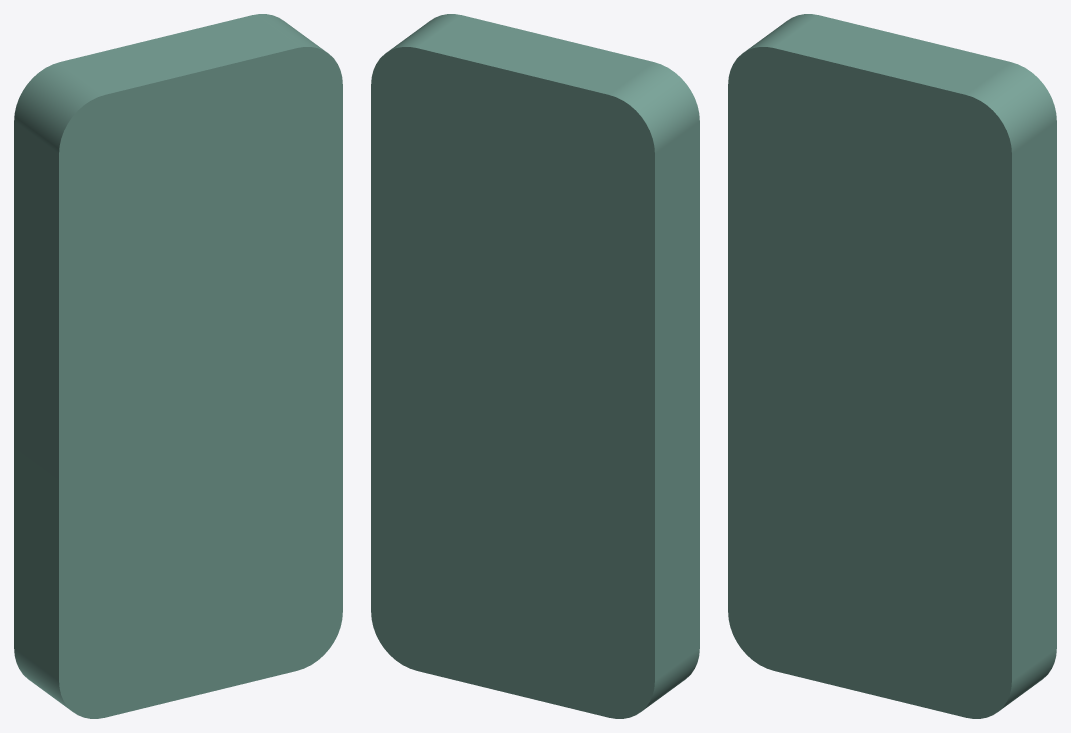
File: example.glb
3 renders of one model, left to right at view 1: azimuth 30°, elevation 25°; view 2: azimuth 150°, elevation 25°; view 3: azimuth 330°, elevation 25°, orthographic.
Visible parts, largest first — view 1: DeviceBody; view 2: DeviceBody; view 3: DeviceBody.
Boxes of the visible parts, <box> form: DeviceBody: <box>14,14,342,718</box>; DeviceBody: <box>371,14,699,718</box>; DeviceBody: <box>728,14,1056,718</box>.
Bounding box in the file's own units: 0.62 × 1.3 × 0.17.
